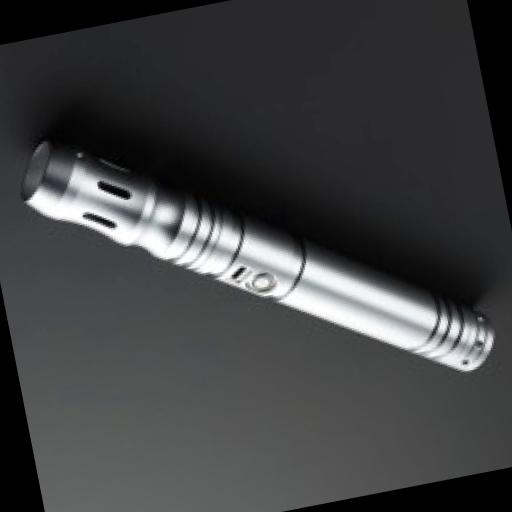lightsaber: (6, 62, 510, 453)
